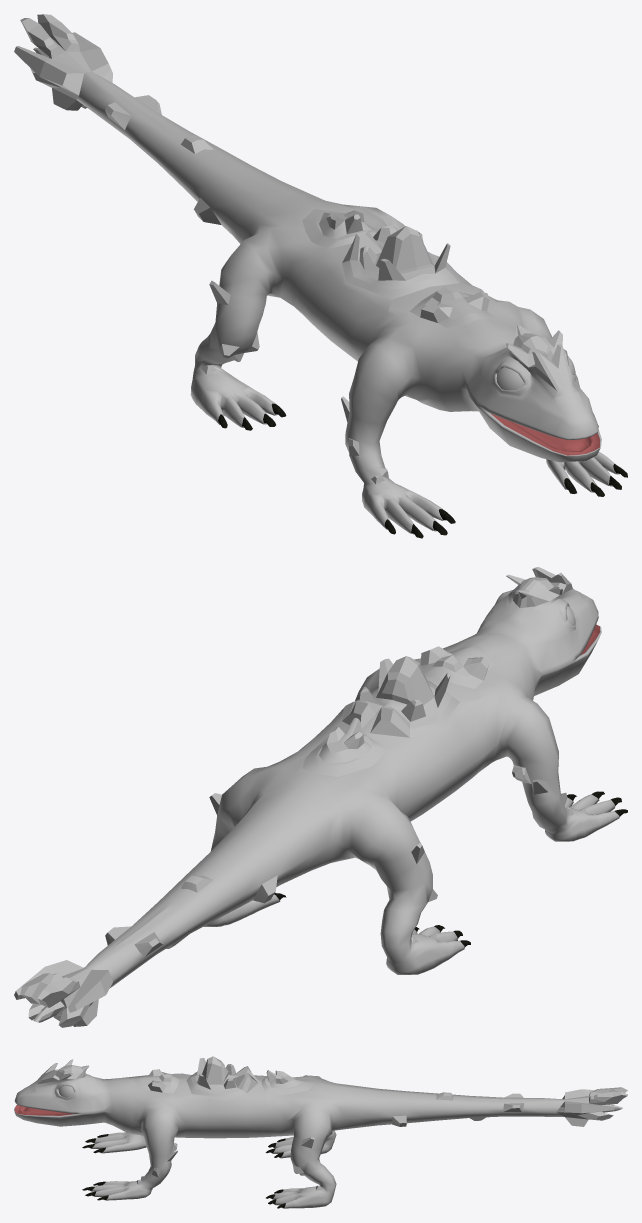
Rendered from monstre.fbx.
3 renders of one model, top to bottom at view 1: azimuth 30°, elevation 25°; view 2: azimuth 150°, elevation 25°; view 3: azimuth 270°, elevation 25°, orthographic. The views are drawn at different scales.
Visible parts, largest first — view 1: monstre_corps; view 2: monstre_corps; view 3: monstre_corps.
Boxes of the visible parts, x1=… form: monstre_corps: x1=14, y1=14, x2=627, y2=538; monstre_corps: x1=14, y1=567, x2=627, y2=1027; monstre_corps: x1=14, y1=1056, x2=627, y2=1208.
Bounding box in the file's own units: 58.34 × 48.41 × 225.
